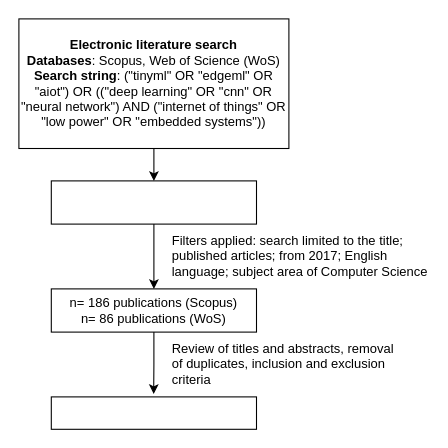
This 448x448 diagram has some shape labels left out. The centre of each missing label's shape, as x and y in pixels:
"n = 167 Publications" goes at point 153,412.
"n= 115120 publications (Scopus) n= 8402 publications (WoS)" goes at point 153,202.
